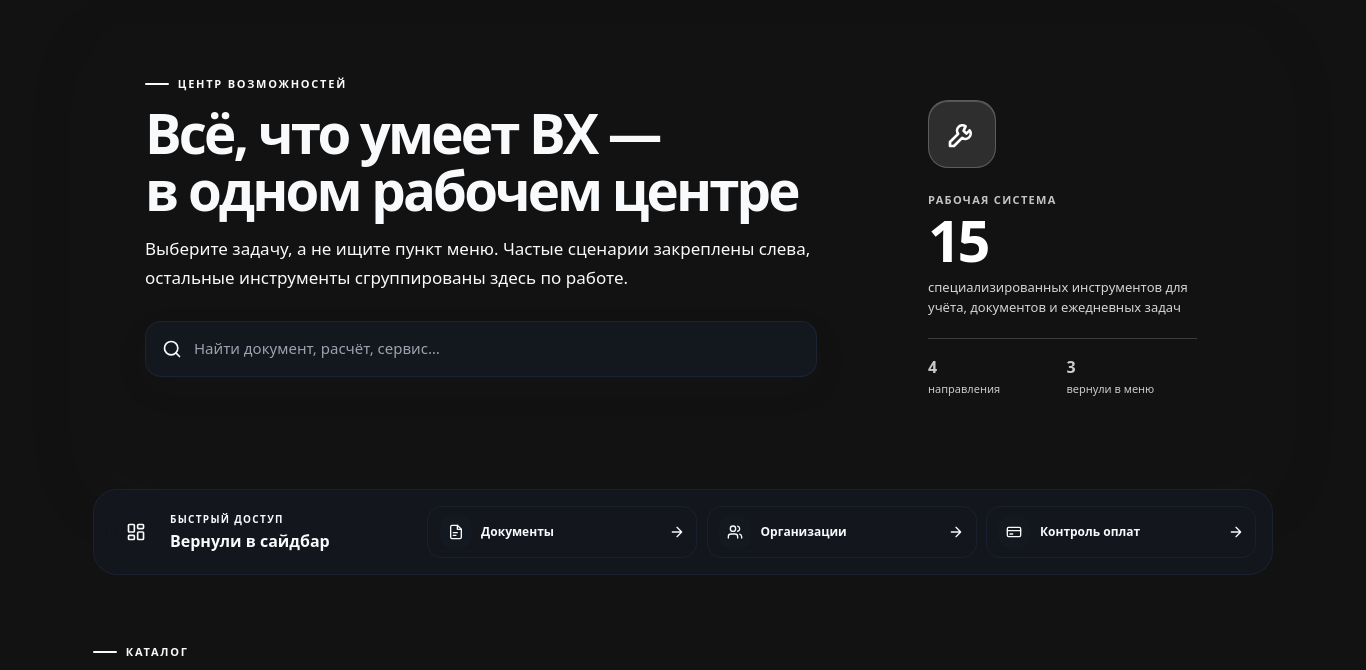
Test: FunctionCatalog › filters destinations and provides a recoverable empty state
This screenshot has width=1366, height=670.
In the search field named "Найти функцию": (501, 349) [194,327,807,371], type "валют"
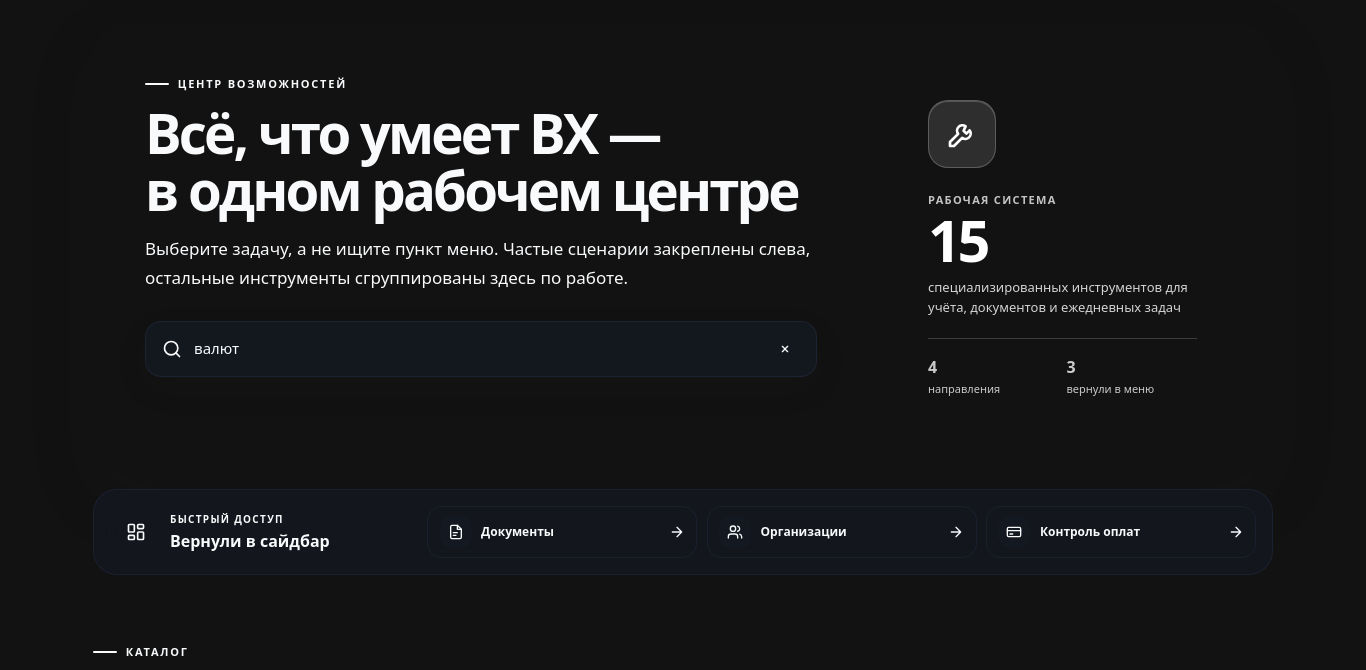
Replace the text in the search field named "Найти функцию" with "несуществующий раздел": (473, 349) [194,327,751,371]
(page scrolled)
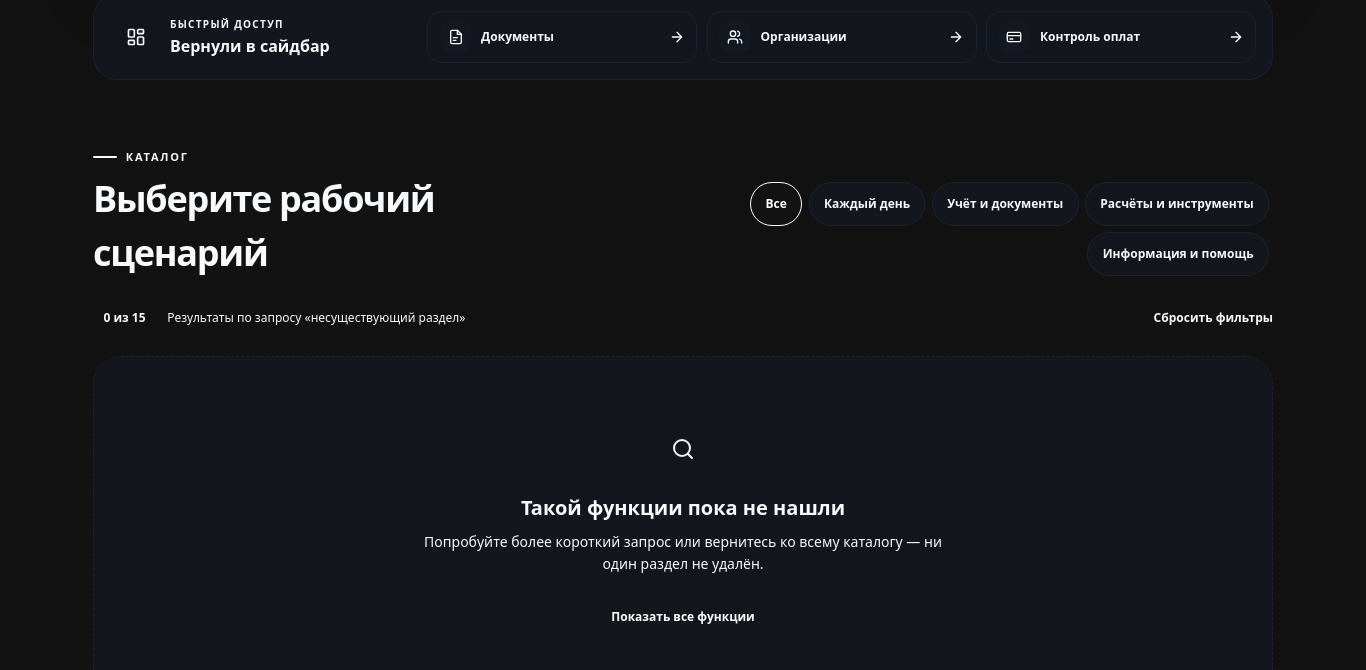
Expected: the heading "Такой функции пока не нашли" is shown, [521,494,845,521]
Click the button "Показать все функции": (683, 617) [594,595,772,639]
(page scrolled)
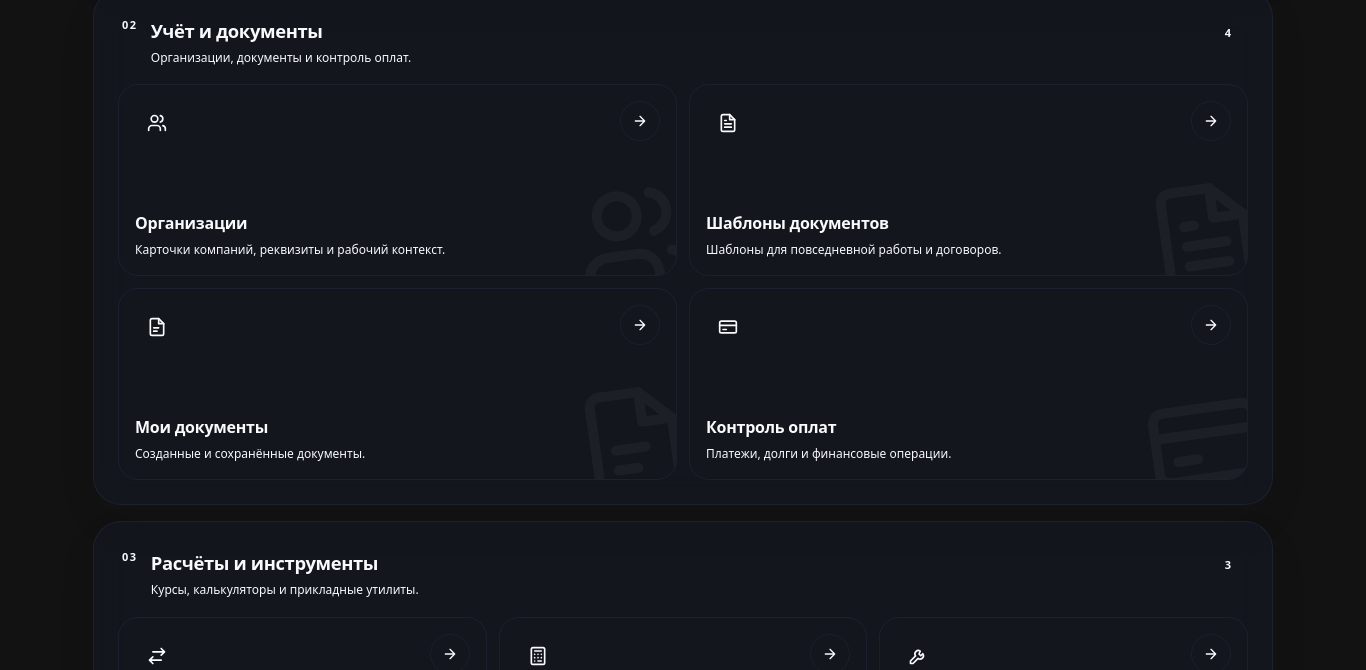
Expected: the link with aria-label "Открыть: Контроль оплат" is shown, [689,288,1248,480]
